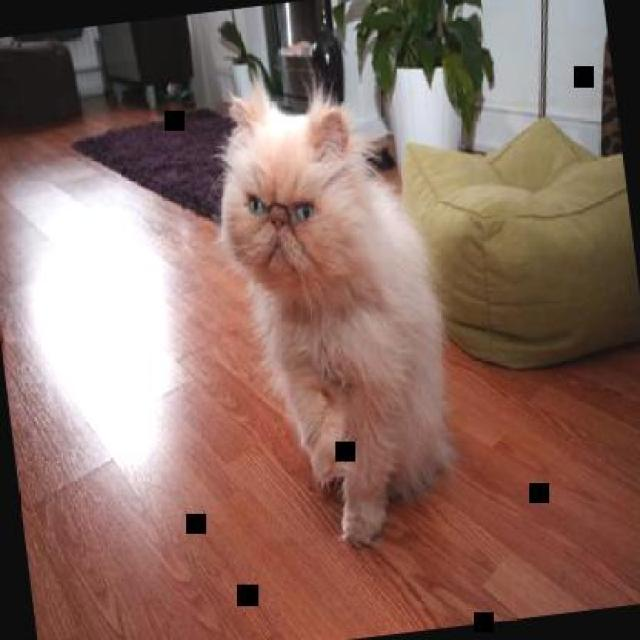cat: (202, 61, 468, 558)
